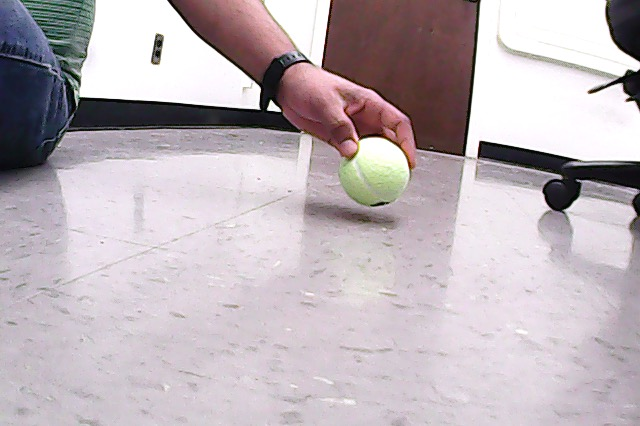ball: (337, 134, 413, 210)
